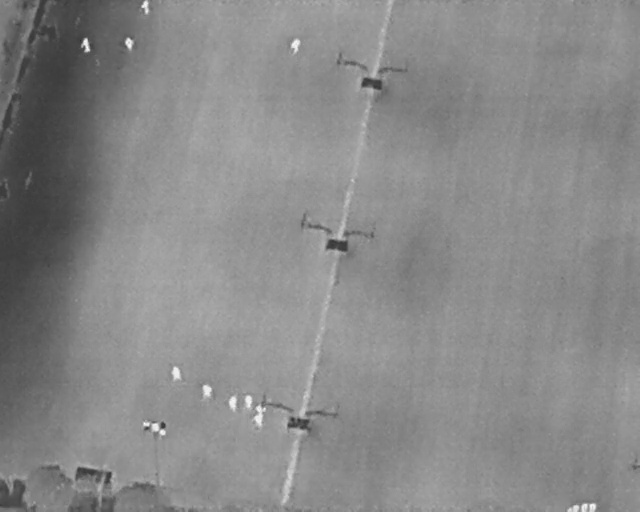Person: (290, 38, 301, 55), (254, 413, 264, 430), (202, 384, 212, 400), (81, 37, 91, 52), (125, 37, 135, 52), (172, 366, 182, 381), (229, 396, 237, 412), (141, 0, 150, 14), (244, 395, 253, 409), (256, 404, 266, 416)
